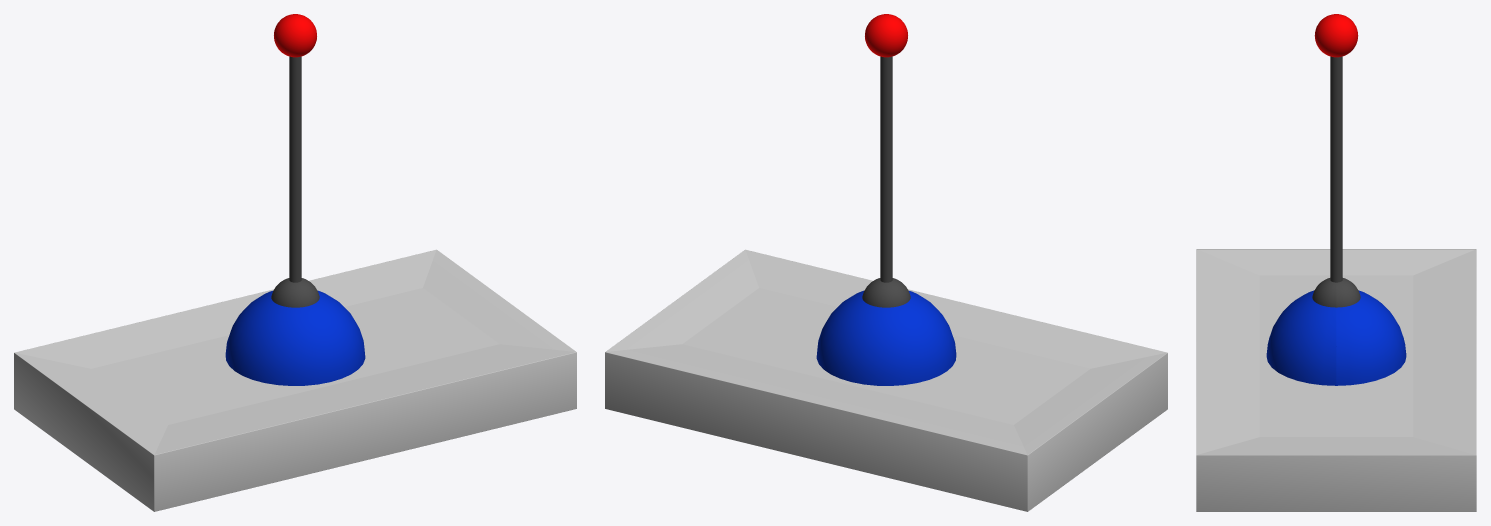
File: рубильник.FBX
3 renders of one model, left to right at view 1: azimuth 30°, elevation 25°; view 2: azimuth 150°, elevation 25°; view 3: azimuth 270°, elevation 25°, orthographic.
Parts seen in each view (by area): view 1: ChamferBox003, Sphere002, Cylinder001, Sphere004, Sphere003; view 2: ChamferBox003, Sphere002, Cylinder001, Sphere004, Sphere003; view 3: ChamferBox003, Sphere002, Cylinder001, Sphere004, Sphere003.
Part boxes in pixels (box(x1,y1,x2,y2)): ChamferBox003: box(14, 249, 576, 511); Sphere002: box(225, 290, 365, 385); Cylinder001: box(289, 56, 301, 282); Sphere004: box(274, 14, 316, 57); Sphere003: box(271, 278, 319, 307); ChamferBox003: box(605, 249, 1167, 511); Sphere002: box(816, 290, 956, 385); Cylinder001: box(880, 56, 892, 282); Sphere004: box(865, 14, 907, 57); Sphere003: box(862, 278, 910, 307); ChamferBox003: box(1196, 249, 1476, 511); Sphere002: box(1266, 290, 1406, 385); Cylinder001: box(1330, 56, 1342, 282); Sphere004: box(1314, 14, 1358, 57); Sphere003: box(1312, 278, 1360, 307).
Size of the model in its own units: 48.44 by 43.03 by 27.84.
